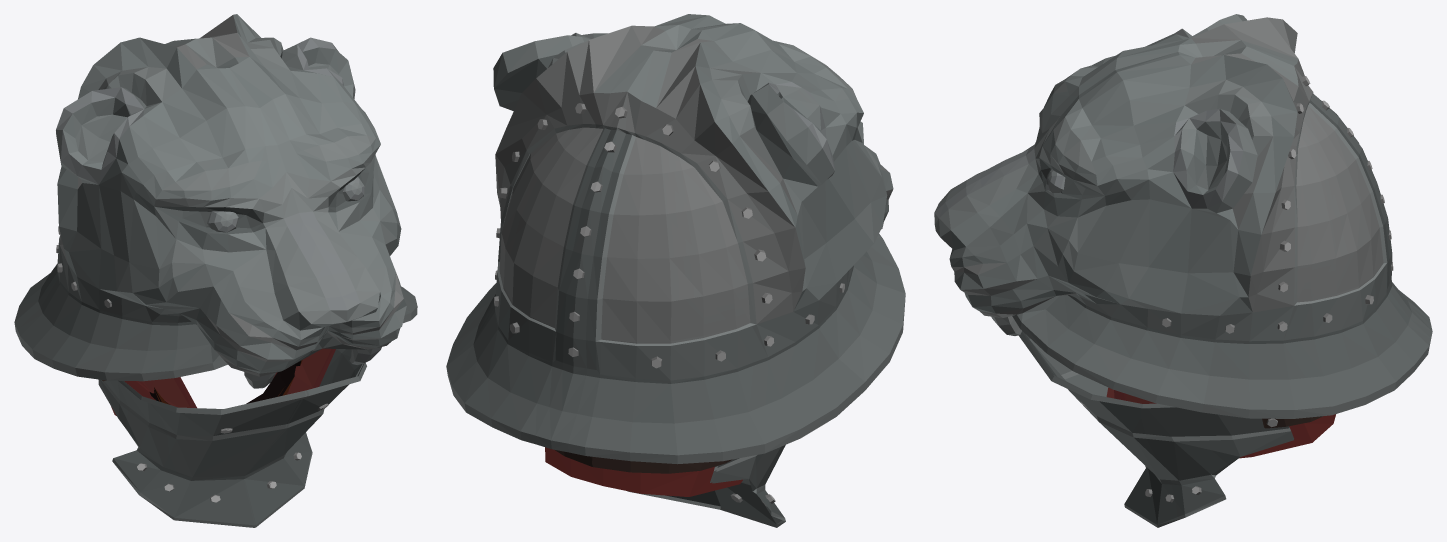
The model's file is gateGuardCaptainLionFemale.glb.
3 views of the same model, side by side, from view 1: azimuth 30°, elevation 25°; view 2: azimuth 150°, elevation 25°; view 3: azimuth 270°, elevation 25° (orthographic). The views are drawn at different scales.
Parts seen in each view (by area): view 1: gateGuardCaptainLion; view 2: gateGuardCaptainLion; view 3: gateGuardCaptainLion.
Part boxes in pixels (x1,y1,x2,y2): gateGuardCaptainLion: [14, 14, 417, 527]; gateGuardCaptainLion: [446, 14, 905, 527]; gateGuardCaptainLion: [934, 14, 1432, 527].
Size of the model in its own units: 0.3874 by 0.5078 by 0.4904.
